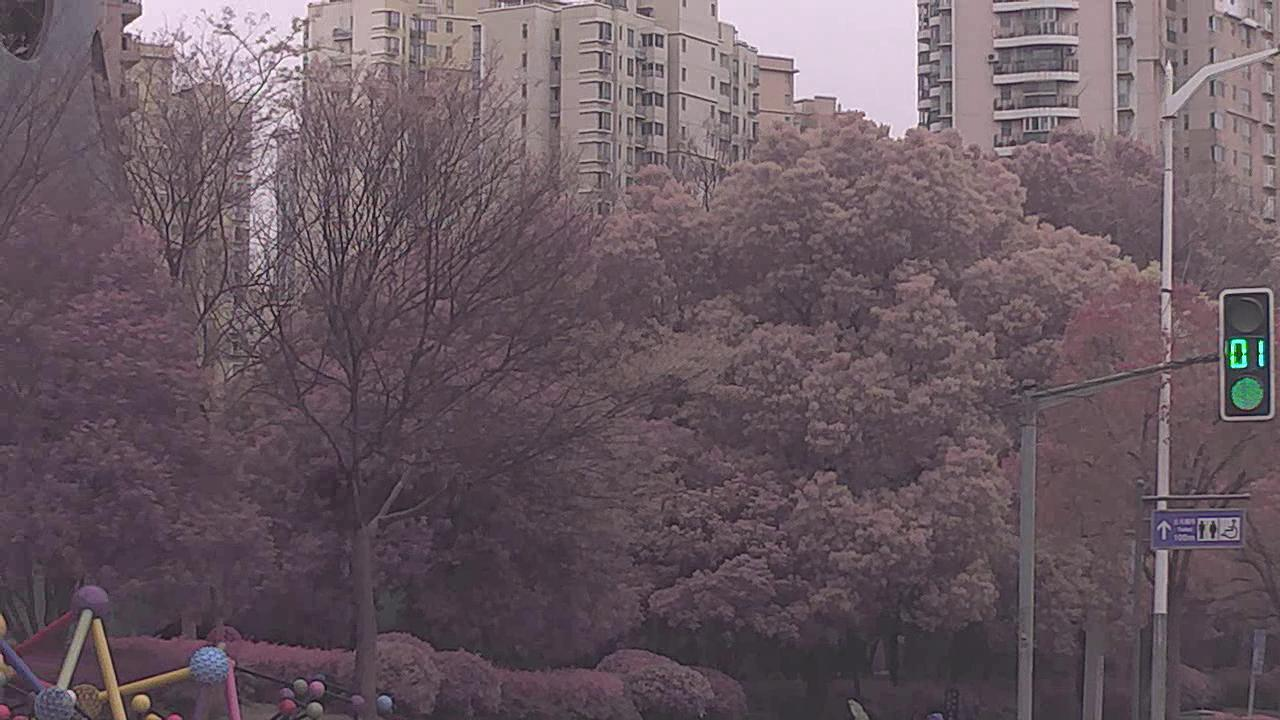traffic_light: (1222, 290, 1275, 418)
